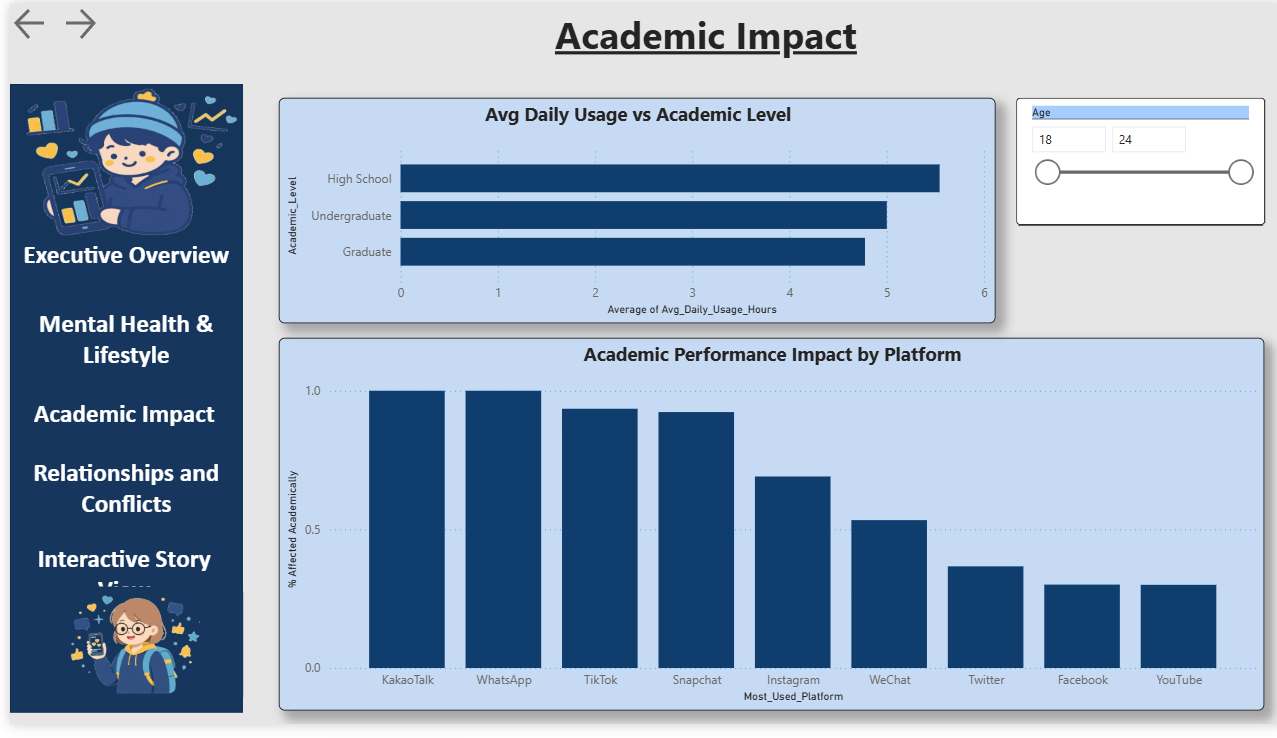

The page's visual inventory and layout, read from the dashboard file:
{"tool":"powerbi","page":{"name":"Academic Impact","canvas":[1280,720],"ordinal":2},"visuals":[{"type":"textbox","box":[470.4,0,451.9,66.7],"z":0},{"type":"clusteredBarChart","title":"Avg Daily Usage vs Academic Level","fields":{"Y":["Avg(Platform Details.Avg_Daily_Usage_Hours)"],"Category":["Student Details.Academic_Level"]},"box":[268.6,94.3,717.1,225.7],"z":1000},{"type":"clusteredColumnChart","title":"Academic Performance Impact by Platform","fields":{"Category":["Platform Details.Most_Used_Platform"],"Y":["Platform Details.% Affected Academically"]},"box":[268.6,334.3,985.7,372.9],"z":2000},{"type":"slicer","fields":{"Values":["Student Details.Age"]},"box":[1005.7,94.3,248.6,127.1],"z":3000},{"type":"actionButton","box":[0,0,50,40],"z":4000},{"type":"actionButton","box":[50,0,100,40],"z":5000},{"type":"group","id":"g1","title":"Group 1","box":[0,79.6,232.8,628.6],"z":6000},{"type":"group","id":"g2","title":"Group 1","box":[9.7,79.6,223.2,618.9],"z":7000},{"type":"shape","box":[0,79.6,232.8,628.6],"z":9000,"group":"g1"},{"type":"actionButton","title":"Executive Overview","box":[0,235.1,232.8,58.1],"z":10000,"group":"g1"},{"type":"image","box":[9.7,79.6,223.2,155.6],"z":11000,"group":"g2"},{"type":"actionButton","title":"Mental Health & Lifestyle","box":[0,303.5,232.8,69.8],"z":11000,"group":"g1"},{"type":"actionButton","title":"Academic Impact","box":[0,393.6,228.8,40.7],"z":12000,"group":"g1"},{"type":"image","box":[9.7,582.7,223.2,115.8],"z":12000,"group":"g2"},{"type":"actionButton","title":"Relationships and Conflicts","box":[0,451.7,232.8,64],"z":13000,"group":"g1"},{"type":"actionButton","title":"Interactive Story View","box":[0,539,228.6,62.5],"z":14000,"group":"g1"}]}

Visuals, with their boxes in screenshot pixels (x1, y1, x2, y2), scaled from the page's 1280x720 canvas onto the 1277x738 screenshot:
textbox: (469,0,920,68)
"Avg Daily Usage vs Academic Level" clusteredBarChart: (268,97,983,328)
"Academic Performance Impact by Platform" clusteredColumnChart: (268,343,1251,725)
slicer - Student Details.Age: (1003,97,1251,227)
actionButton: (0,0,50,41)
actionButton: (50,0,150,41)
"Group 1" group: (0,82,232,726)
"Group 1" group: (10,82,232,716)
shape: (0,82,232,726)
"Executive Overview" actionButton: (0,241,232,301)
image: (10,82,232,241)
"Mental Health & Lifestyle" actionButton: (0,311,232,383)
"Academic Impact" actionButton: (0,403,228,445)
image: (10,597,232,716)
"Relationships and Conflicts" actionButton: (0,463,232,529)
"Interactive Story View" actionButton: (0,552,228,617)
